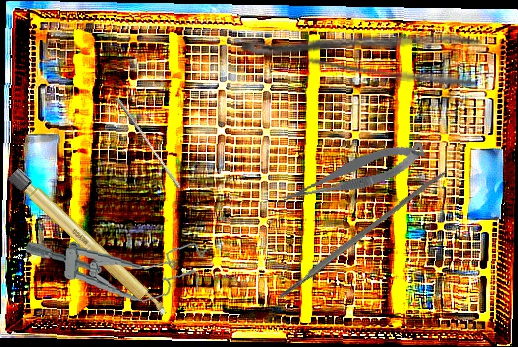Dressing Forceps: (240, 1, 483, 93)
Micro Scissor: (276, 138, 430, 209)
Pusher: (111, 96, 185, 190)
Scalpel Handle: (7, 167, 170, 322), (274, 167, 449, 302)
Speculum: (22, 227, 208, 308)
